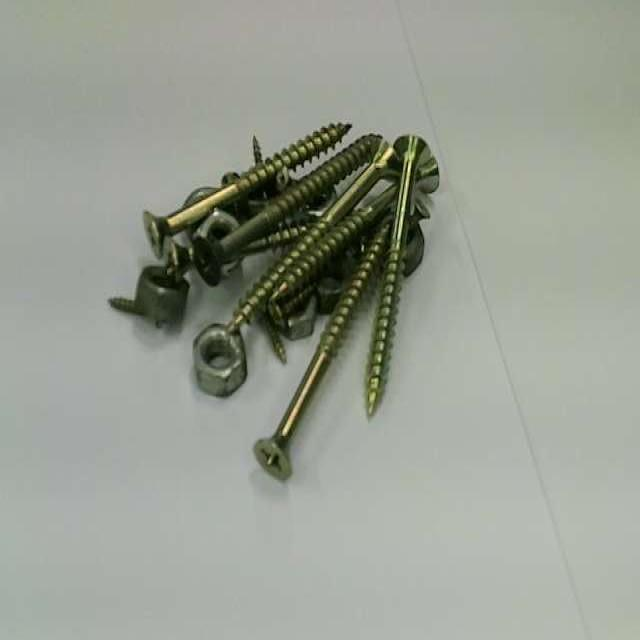Parafuso: (254, 220, 389, 479), (227, 141, 397, 332), (194, 135, 381, 283), (144, 125, 349, 256), (367, 135, 429, 415), (284, 185, 397, 289), (269, 264, 335, 329), (111, 296, 182, 327), (255, 223, 314, 253), (258, 315, 286, 363), (168, 240, 194, 277), (414, 200, 429, 220), (254, 135, 262, 163)
Porca: (191, 325, 249, 397), (197, 209, 246, 278), (136, 266, 192, 315), (320, 256, 355, 315), (283, 301, 319, 345), (408, 213, 425, 270)
